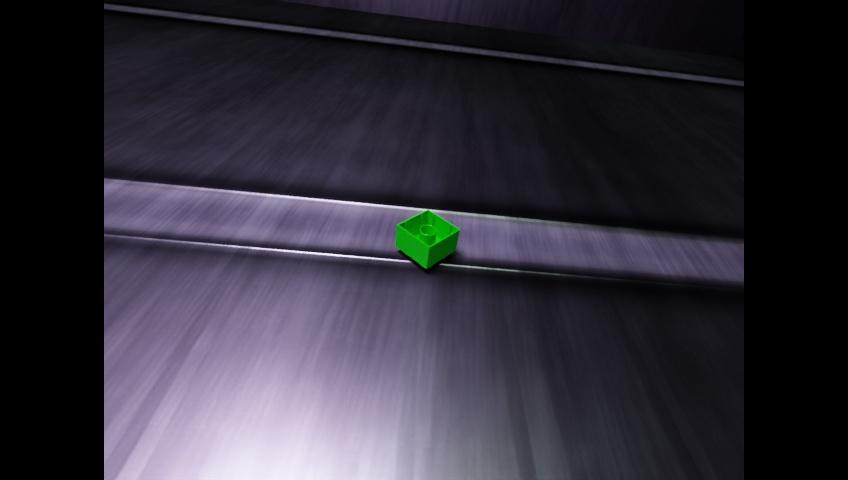2x2_green: (395, 209, 459, 268)
